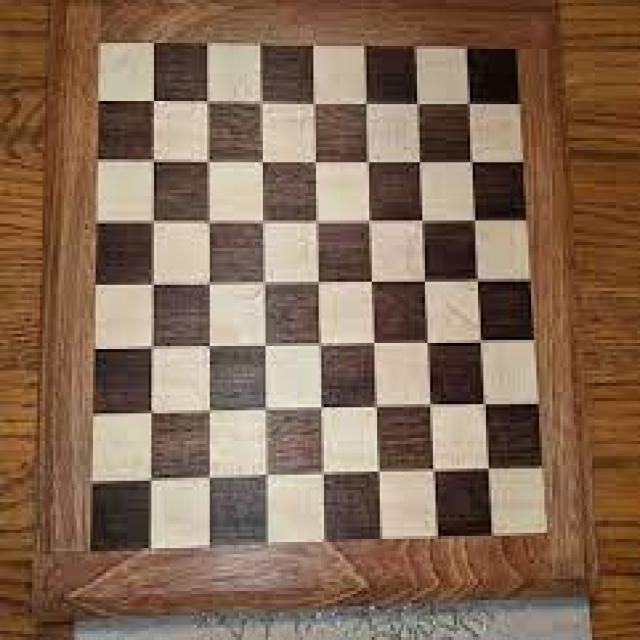chess-table-corners: (86, 29, 120, 64), (497, 36, 528, 70), (528, 514, 558, 548), (78, 533, 109, 565)
